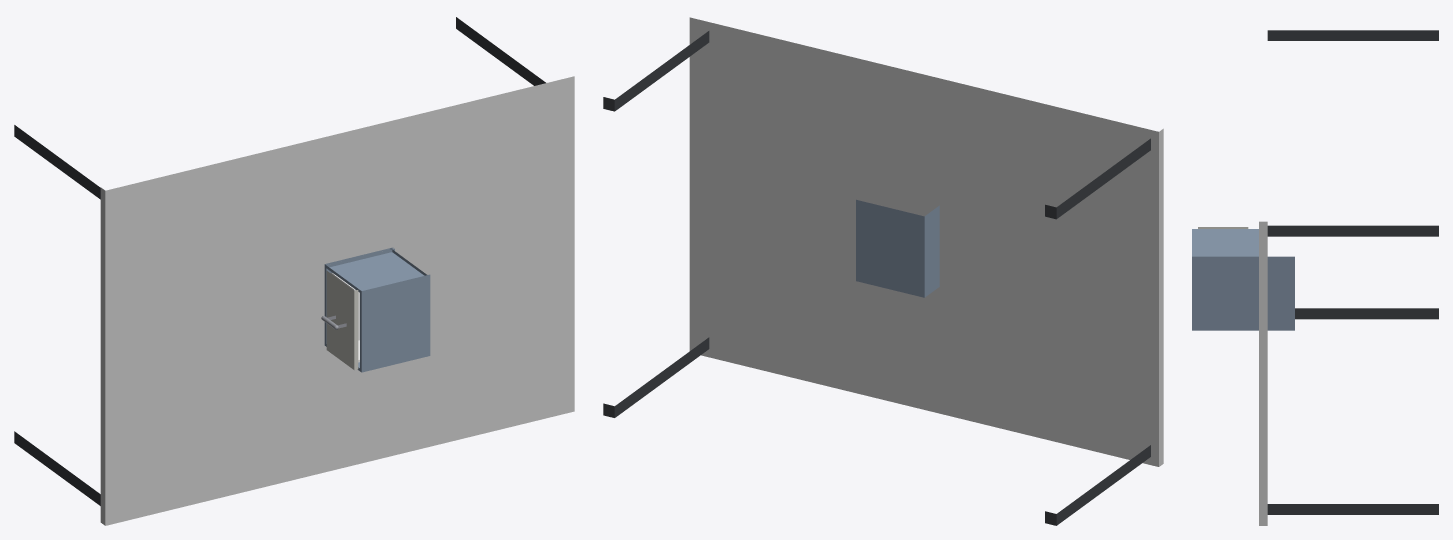
3 views of the same model, side by side, from view 1: azimuth 30°, elevation 25°; view 2: azimuth 150°, elevation 25°; view 3: azimuth 270°, elevation 25° (orthographic). The views are drawn at different scales.
Visible parts, largest first — view 1: s0, s1, s2; view 2: s0, s1; view 3: s0, s1.
Part boxes in pixels (x1=…): s0: x1=14, y1=17, x2=574, y2=525; s1: x1=324, y1=247, x2=430, y2=372; s2: x1=321, y1=271, x2=359, y2=370; s0: x1=603, y1=17, x2=1163, y2=525; s1: x1=856, y1=199, x2=939, y2=297; s0: x1=1259, y1=30, x2=1438, y2=525; s1: x1=1192, y1=229, x2=1294, y2=330.
Bounding box in the file's own units: 2.05 × 1.4 × 1.03.
